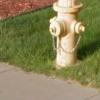Hydrant: (41, 0, 91, 71)
